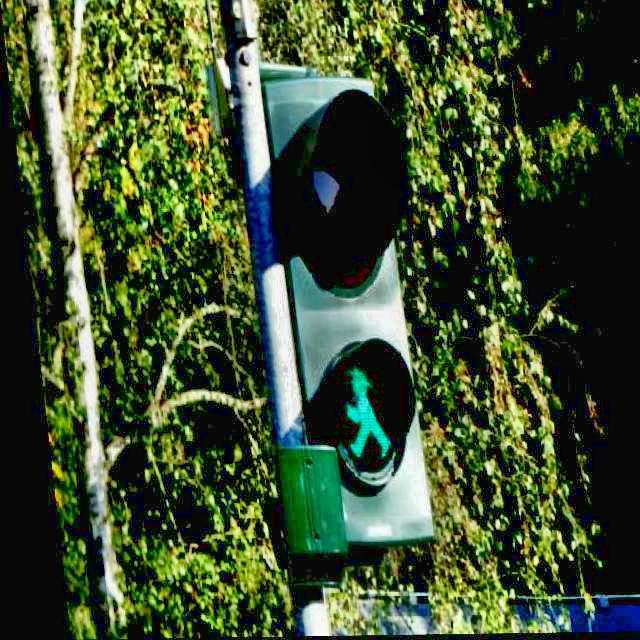semaforo pedestre: (188, 26, 528, 616)
